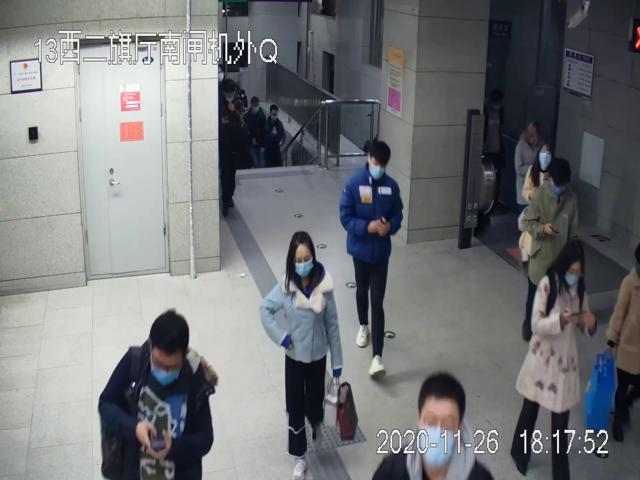person: (512, 237, 598, 480), (261, 232, 343, 480), (339, 140, 405, 377), (522, 157, 581, 340)
